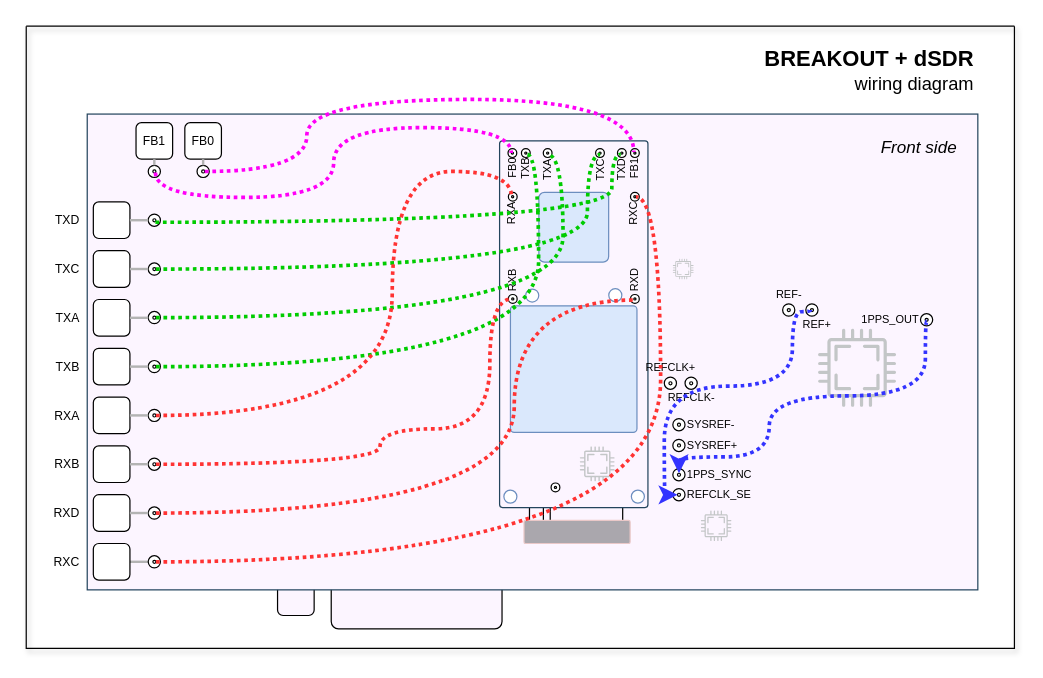
Some shapes in this 1043 by 678 pixel diagram are drawn without their labels. Here are the shapes that lost their labels. From the top down, the centre of each, then its label:
At point (573, 226): "AFE".
At point (573, 368): "FPGA".
